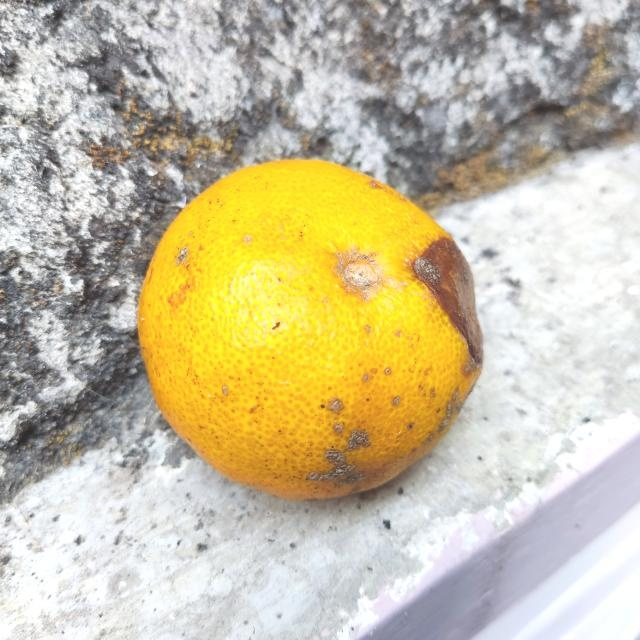agrume: (138, 157, 484, 499)
